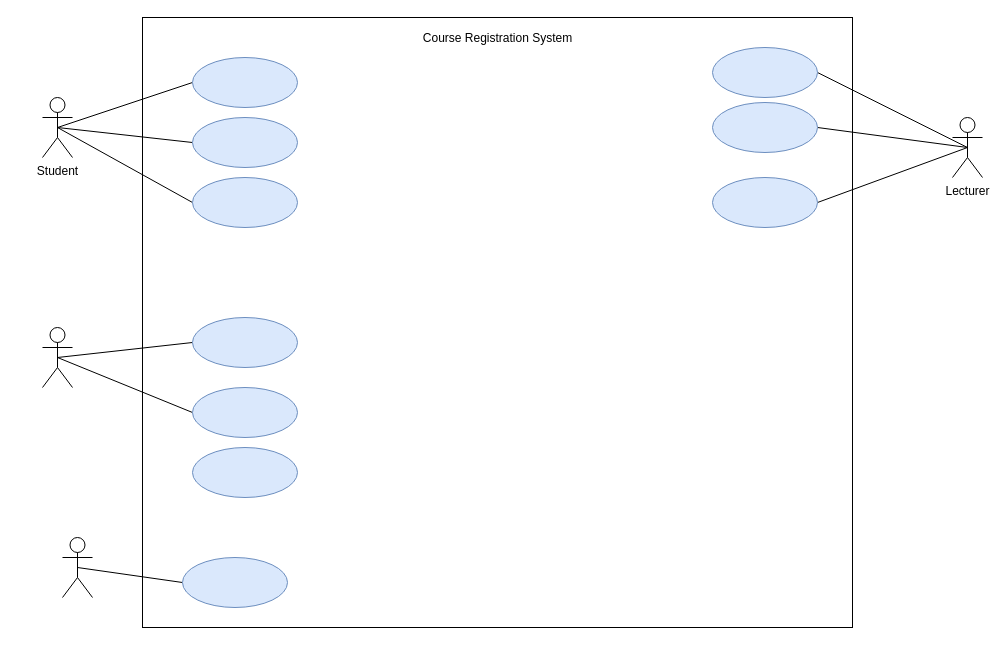
The diagram is 1007 pixels wide and 645 high, and some of its shapes have lost their labels. The box of each missing label's shape, as (x1, y1, x2, y2) in pixels:
Academic Staff: (42, 326, 72, 388)
System Admin: (62, 536, 92, 598)
